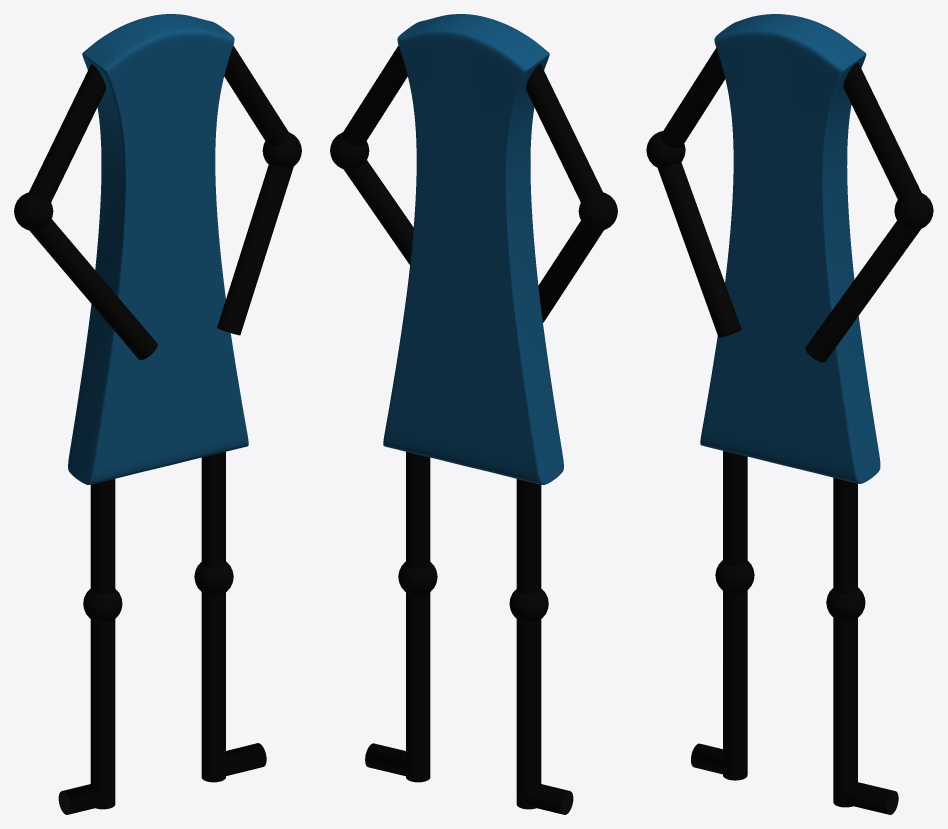
The picture shows the model from 3 angles, left to right: view 1: azimuth 30°, elevation 25°; view 2: azimuth 150°, elevation 25°; view 3: azimuth 330°, elevation 25°; orthographic projection.
Visible parts, largest first — view 1: MaleBody, leftForeLeg, rightForeLeg, LeftForeArm, RightForeArm, RightUpperArm, rightUpperLeg, LeftUpperLeg, LeftUpperArm, rightUpperArmSphere, rightFoot, leftFoot (+3 smaller); view 2: MaleBody, leftForeLeg, rightForeLeg, RightUpperArm, rightUpperLeg, LeftUpperLeg, LeftUpperArm, LeftForeArm, RightForeArm, rightUpperArmSphere, rightFoot, leftFoot (+3 smaller); view 3: MaleBody, rightForeLeg, RightForeArm, leftForeLeg, LeftForeArm, LeftUpperArm, LeftUpperLeg, rightUpperLeg, RightUpperArm, leftFoot, LeftUpperArmSphere, leftUpperLegSphere (+3 smaller).
Boxes of the visible parts, bbox=[...] form: MaleBody: bbox=[68, 14, 248, 484]; leftForeLeg: bbox=[201, 592, 225, 782]; rightForeLeg: bbox=[90, 619, 115, 809]; LeftForeArm: bbox=[217, 165, 293, 335]; RightForeArm: bbox=[30, 219, 157, 359]; RightUpperArm: bbox=[28, 64, 105, 202]; rightUpperLeg: bbox=[90, 479, 115, 594]; LeftUpperLeg: bbox=[201, 451, 225, 568]; LeftUpperArm: bbox=[224, 45, 290, 145]; rightUpperArmSphere: bbox=[14, 192, 53, 230]; rightFoot: bbox=[58, 784, 113, 814]; leftFoot: bbox=[223, 743, 266, 775]; MaleBody: bbox=[383, 14, 563, 484]; leftForeLeg: bbox=[406, 592, 430, 782]; rightForeLeg: bbox=[516, 619, 541, 809]; RightUpperArm: bbox=[526, 64, 603, 202]; rightUpperLeg: bbox=[516, 479, 541, 594]; LeftUpperLeg: bbox=[406, 451, 430, 568]; LeftUpperArm: bbox=[341, 45, 407, 145]; LeftForeArm: bbox=[344, 160, 413, 264]; RightForeArm: bbox=[538, 221, 603, 322]; rightUpperArmSphere: bbox=[578, 192, 617, 230]; rightFoot: bbox=[518, 784, 573, 814]; leftFoot: bbox=[365, 743, 408, 776]; MaleBody: bbox=[700, 14, 880, 483]; rightForeLeg: bbox=[723, 590, 747, 780]; RightForeArm: bbox=[657, 162, 741, 337]; leftForeLeg: bbox=[833, 618, 857, 807]; LeftForeArm: bbox=[805, 221, 920, 362]; LeftUpperArm: bbox=[843, 62, 921, 201]; LeftUpperLeg: bbox=[833, 477, 857, 593]; rightUpperLeg: bbox=[723, 451, 747, 566]; RightUpperArm: bbox=[661, 48, 725, 148]; leftFoot: bbox=[844, 782, 898, 814]; LeftUpperArmSphere: bbox=[894, 193, 933, 229]; leftUpperLegSphere: bbox=[826, 587, 865, 621].
Bounding box in the file's own units: 133 × 345 × 35.4.
